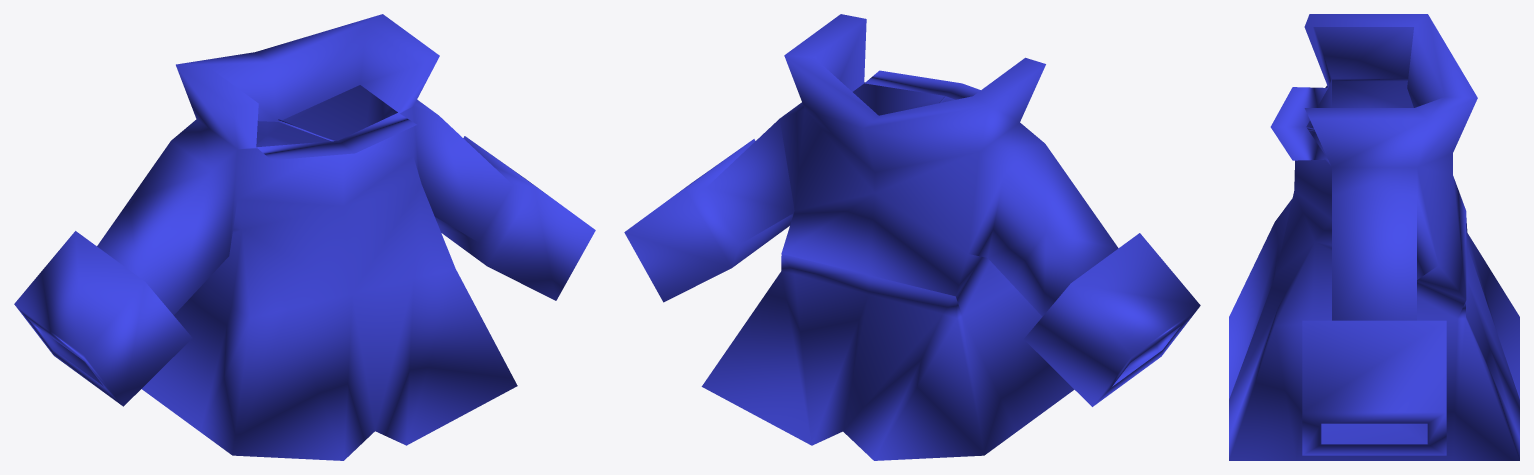
File: cube.105_lev3.glb
3 views of the same model, side by side, from view 1: azimuth 30°, elevation 25°; view 2: azimuth 150°, elevation 25°; view 3: azimuth 270°, elevation 25° (orthographic). The views are drawn at different scales.
Visible parts, largest first — view 1: cube.105_lev3; view 2: cube.105_lev3; view 3: cube.105_lev3.
Boxes of the visible parts, x1=… form: cube.105_lev3: x1=14, y1=14, x2=595, y2=460; cube.105_lev3: x1=624, y1=14, x2=1200, y2=460; cube.105_lev3: x1=1229, y1=14, x2=1519, y2=460.
Bounding box in the file's own units: 0.7931 × 0.5088 × 0.3764.
